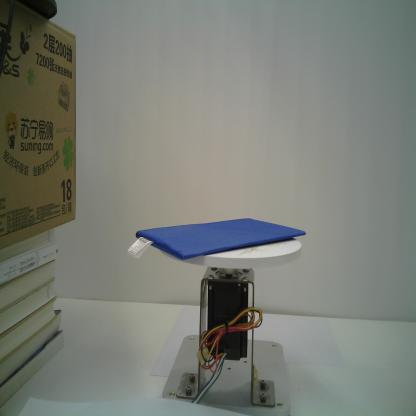Stationery: (127, 216, 306, 262)
